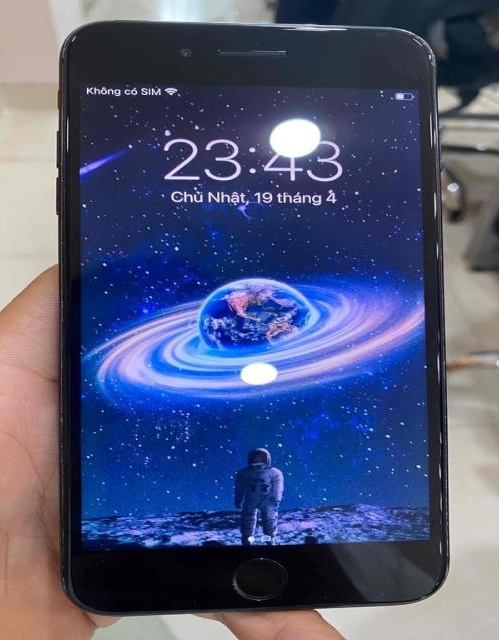scratch: (429, 430, 451, 570), (226, 553, 287, 599), (390, 31, 447, 65), (60, 30, 74, 60)
